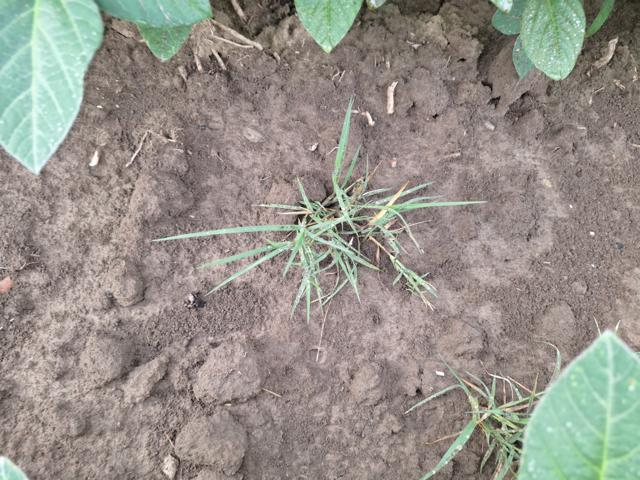bad weed: (138, 91, 462, 322), (409, 345, 557, 480)
